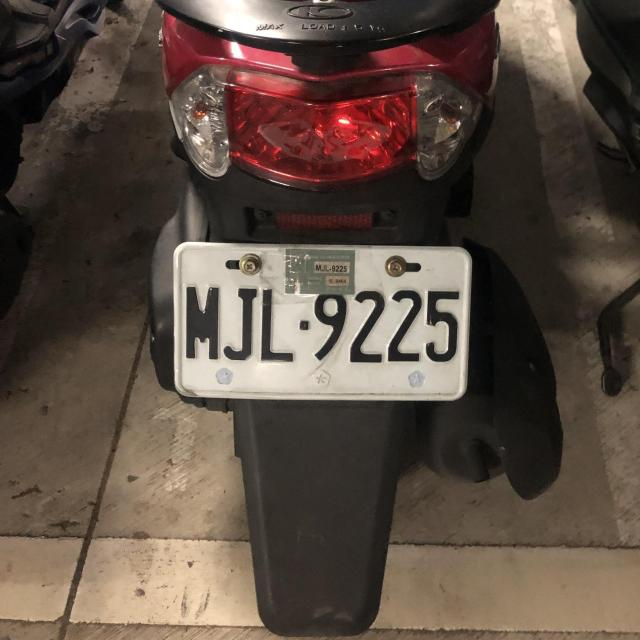W: (166, 238, 476, 405)
